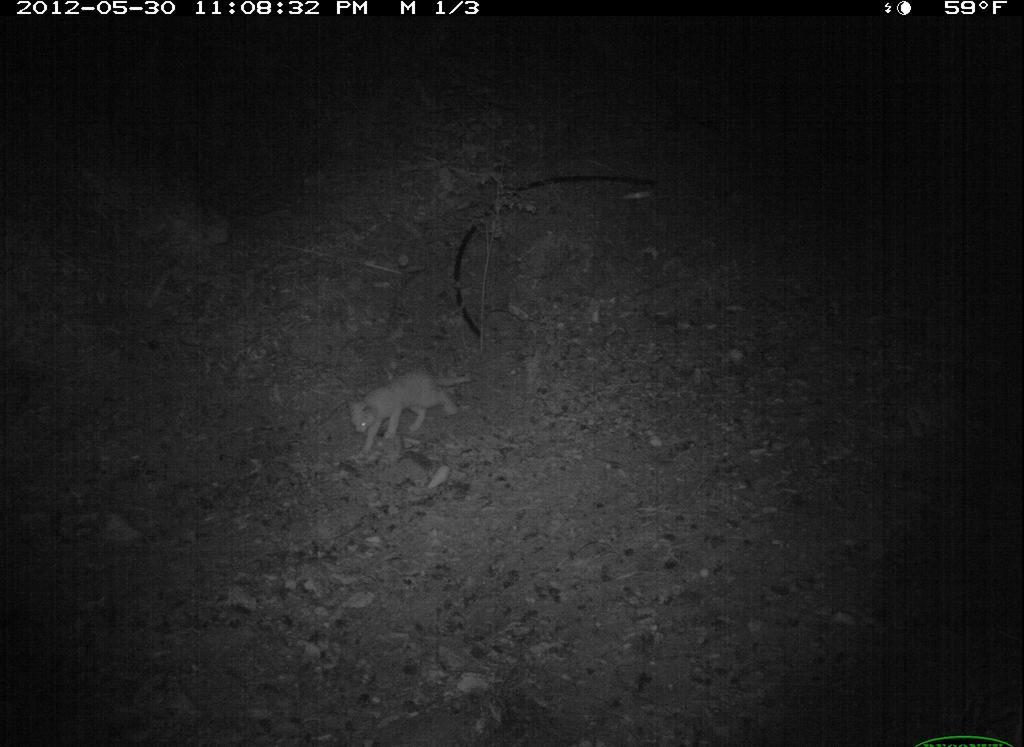cat: (341, 368, 477, 455)
